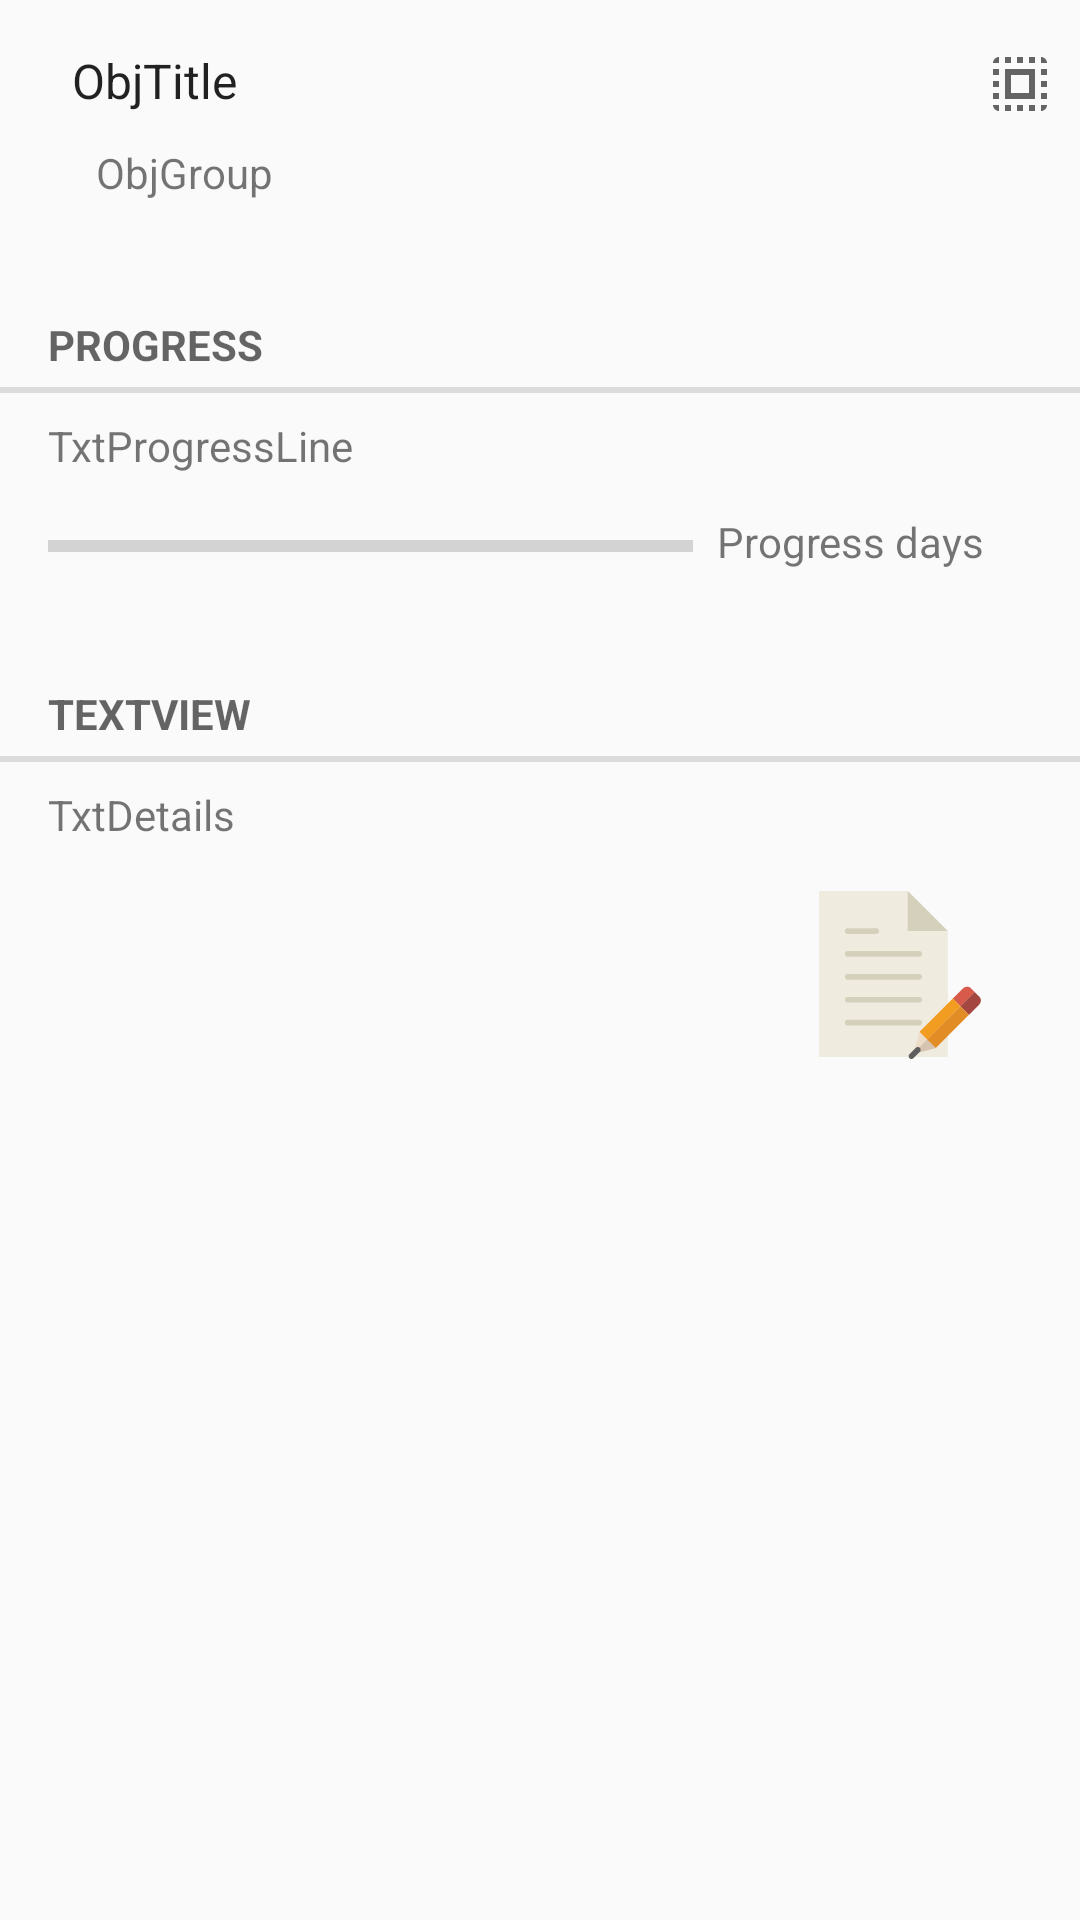

Named icons in this screenshot (1080w x 1920h) and their centers, (x=x, y=y):
file: (x=900, y=975)
